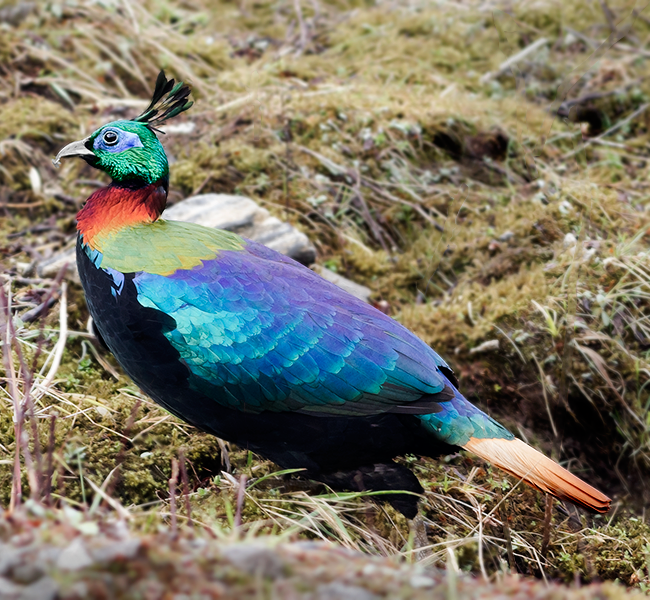bird: (31, 76, 571, 480)
